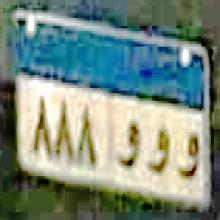8: (52, 94, 75, 170), (30, 90, 52, 160), (77, 106, 98, 167)
waw: (145, 119, 172, 180), (117, 115, 142, 174), (177, 129, 201, 188)
